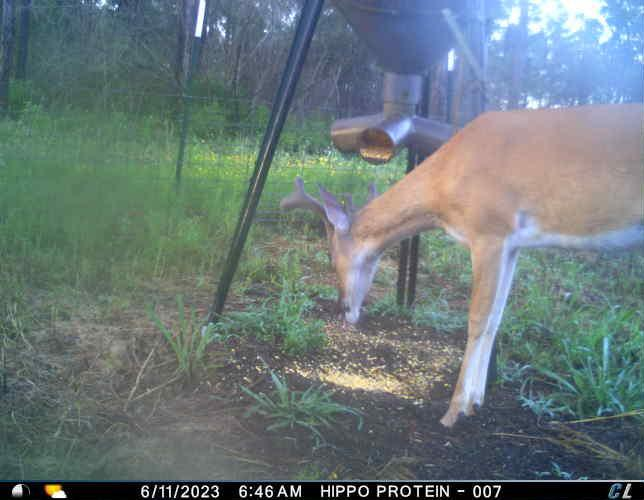Deer: (276, 100, 644, 433)
